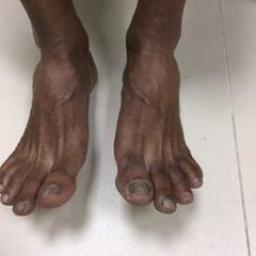Front View -Both Feet-: (1, 14, 210, 230)
